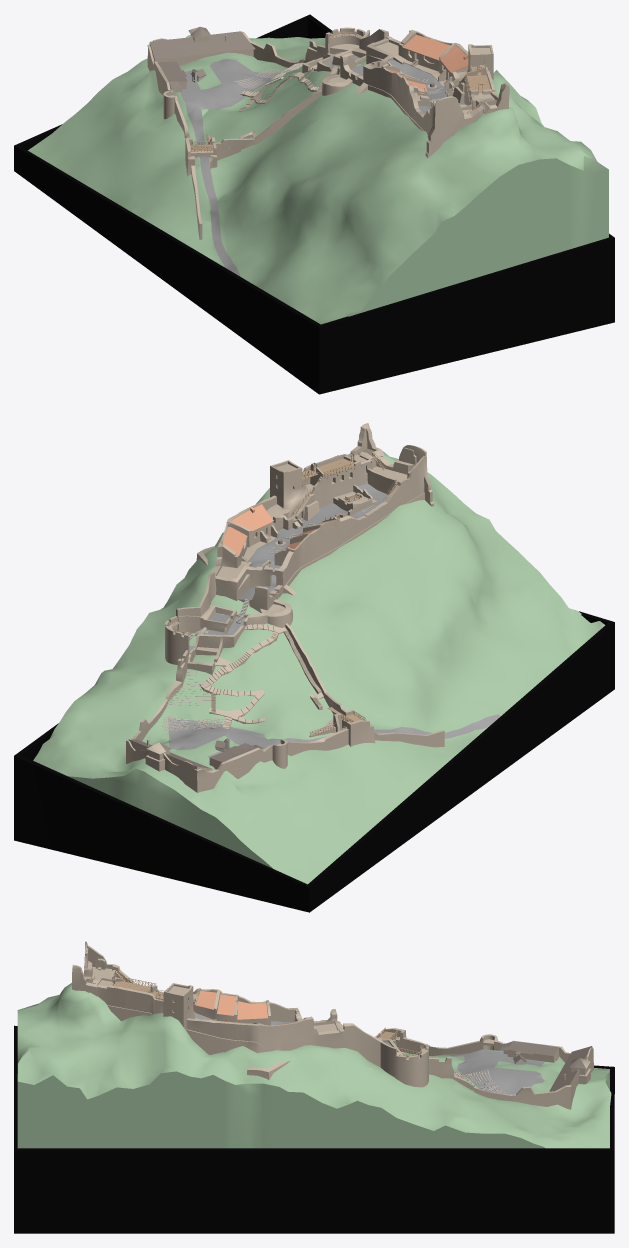
The model's file is Szigligeti_var.fbx.
3 views of the same model, one above another, from view 1: azimuth 30°, elevation 25°; view 2: azimuth 150°, elevation 25°; view 3: azimuth 270°, elevation 25° (orthographic).
Visible parts, largest first — view 1: Object001.002; view 2: Object001.002; view 3: Object001.002.
Part boxes in pixels (x1,y1,x2,y2): Object001.002: (14, 14, 614, 394); Object001.002: (14, 423, 614, 912); Object001.002: (14, 941, 614, 1233).
Bounding box in the file's own units: 1450 × 1099 × 2591.
